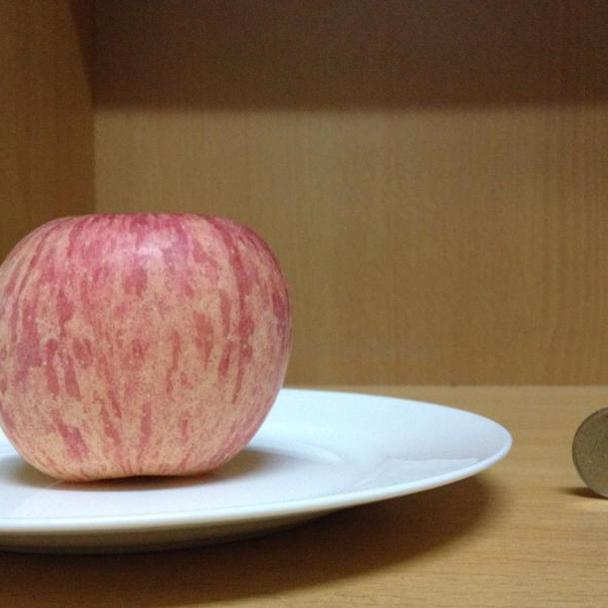apple: (1, 212, 291, 481)
